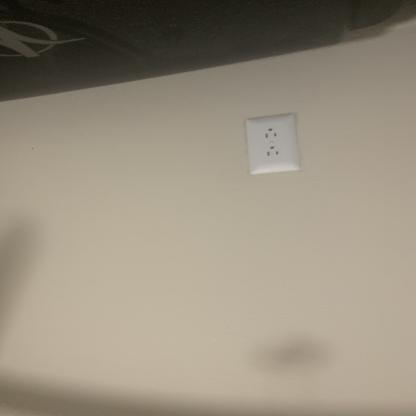OUTLET: (246, 116, 296, 174)
